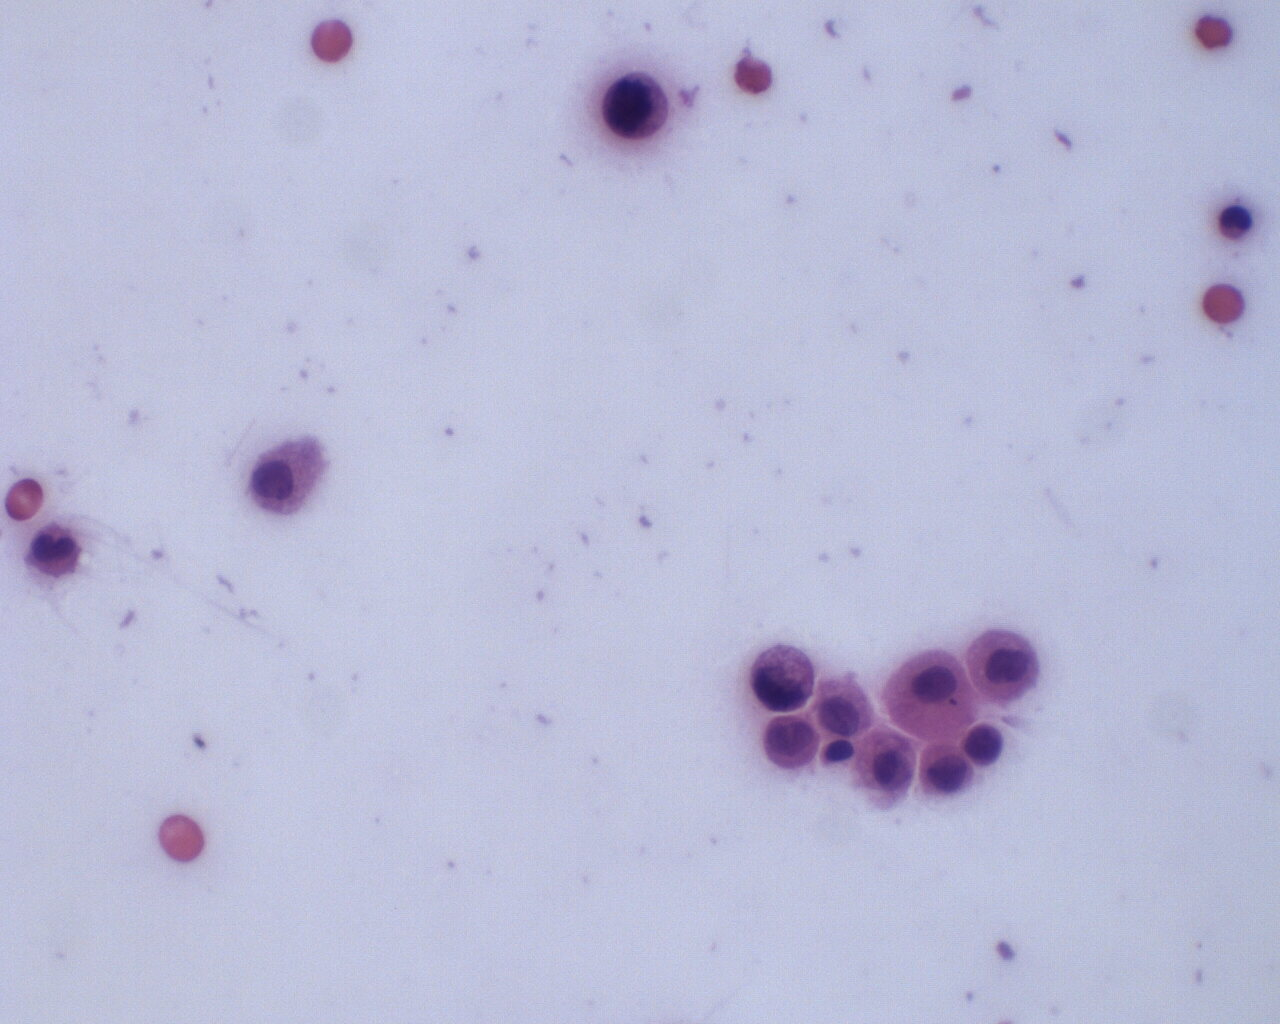ab: (598, 62, 677, 152), (749, 639, 816, 715), (854, 725, 918, 802), (812, 675, 880, 738), (762, 708, 820, 771), (920, 742, 979, 801), (964, 720, 1009, 766)
meso: (886, 643, 975, 737), (967, 626, 1044, 708)
